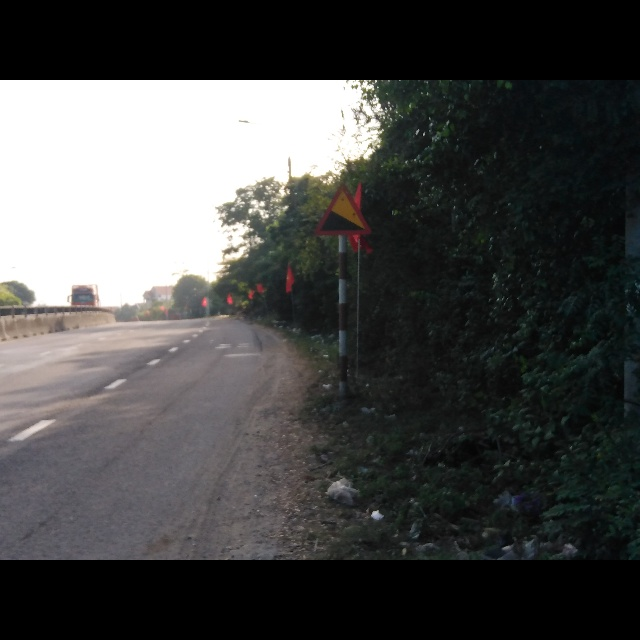Dốc lên nguy hiểm: (314, 181, 372, 236)
